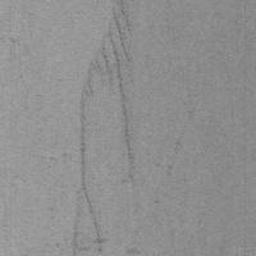Water spot: (70, 0, 134, 256)
